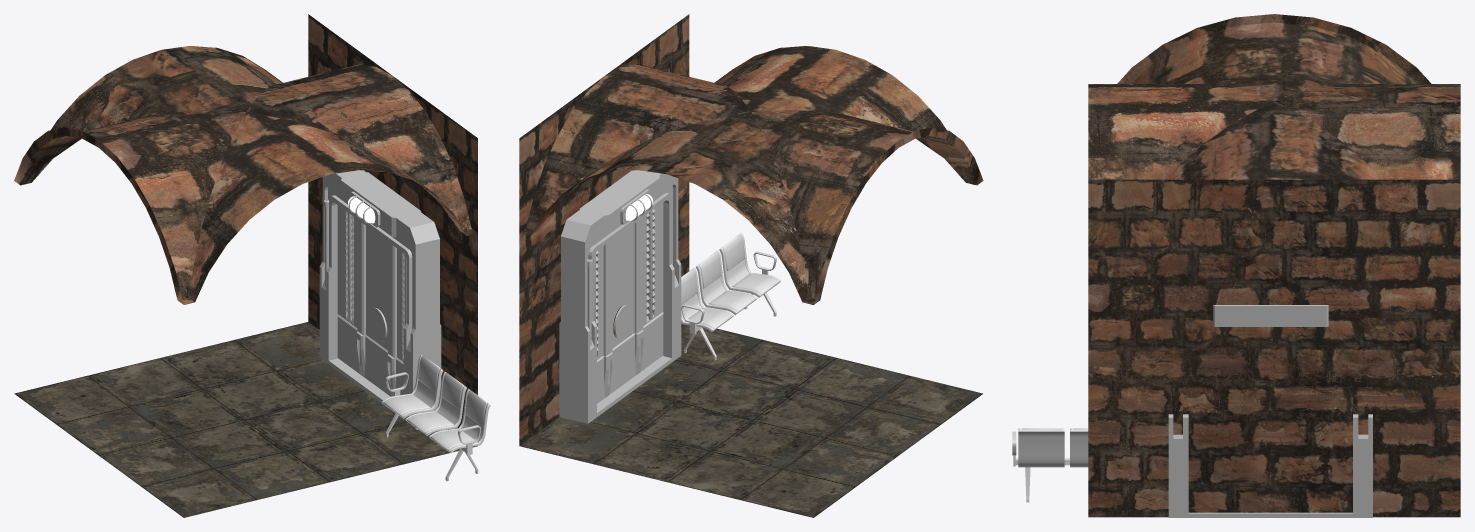
Rendered from TextStuff.fbx.
3 views of the same model, side by side, from view 1: azimuth 30°, elevation 25°; view 2: azimuth 150°, elevation 25°; view 3: azimuth 270°, elevation 25° (orthographic). The views are drawn at different scales.
Parts seen in each view (by area): view 1: Cube.017, Plane, Plane.008, Cube.010, Cube.006, Chair_3.001, Cube.007, Cylinder.002; view 2: Cube.017, Plane, Plane.008, Cube.010, Cube.006, Chair_3.001, Cube.007, Cylinder.002; view 3: Plane.008, Cube.017, Cube.010, Chair_3.001.
Boxes of the visible parts, x1,y1,x2,y2 form: Cube.017: [14, 46, 477, 304]; Plane: [14, 322, 477, 517]; Plane.008: [308, 14, 477, 428]; Cube.010: [319, 170, 441, 426]; Cube.006: [337, 205, 406, 361]; Chair_3.001: [382, 354, 490, 481]; Cube.007: [337, 314, 403, 396]; Cylinder.002: [348, 191, 380, 227]; Cube.017: [520, 46, 983, 304]; Plane: [520, 325, 982, 517]; Plane.008: [519, 14, 689, 445]; Cube.010: [559, 170, 681, 423]; Cube.006: [594, 202, 663, 359]; Chair_3.001: [681, 233, 780, 360]; Cube.007: [597, 312, 663, 403]; Cylinder.002: [620, 189, 652, 224]; Plane.008: [1088, 179, 1460, 517]; Cube.017: [1088, 14, 1460, 179]; Cube.010: [1168, 305, 1372, 517]; Chair_3.001: [1012, 428, 1088, 502].
Bounding box in the file's own units: 4.02 × 4.1 × 4.81.
